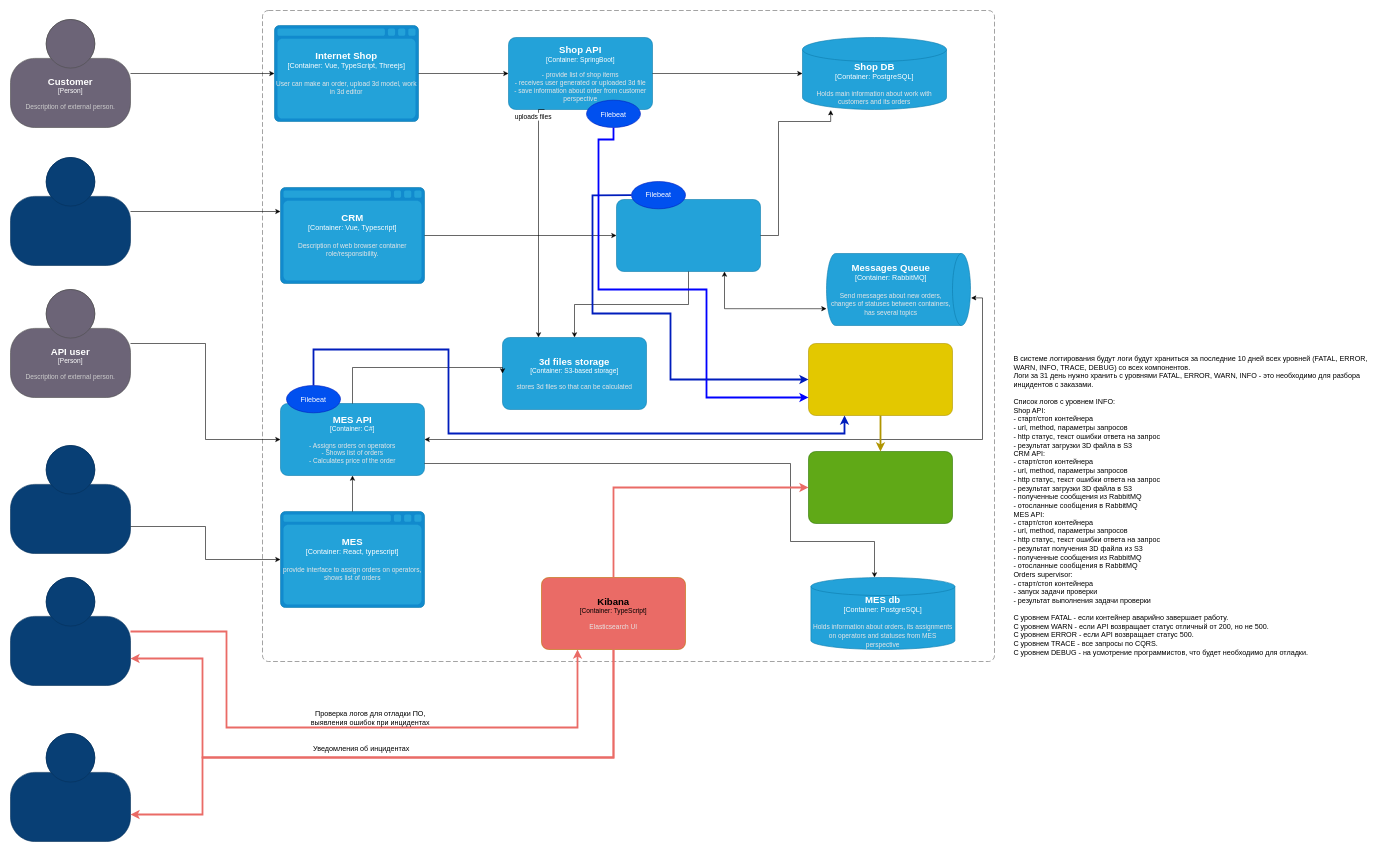
This 1389x852 diagram has some shape labels left out. The shapes that lost their labels are listed below. From the top down, each one's box as (x1, y1, x2, y2) in pixels, then its label:
(10, 157, 130, 266): Seller [Person] Operates with order, confirms manufacturing for the user
(616, 199, 760, 272): CRM API [Container: SpringBoot] Description of container role/responsibility.
(262, 10, 994, 662): Jewerly Store System [Software System]
(808, 343, 952, 416): Logstash [Container: JRuby] Collect logs and send to Elasticsearch
(10, 445, 130, 554): Operator [Person] Takes order in work, manufactures jewerly
(808, 451, 952, 524): Elasticsearch [Container: Java] Store logs
(10, 577, 130, 686): Разработчики [Person]
(10, 733, 130, 842): Администраторы [Person]
